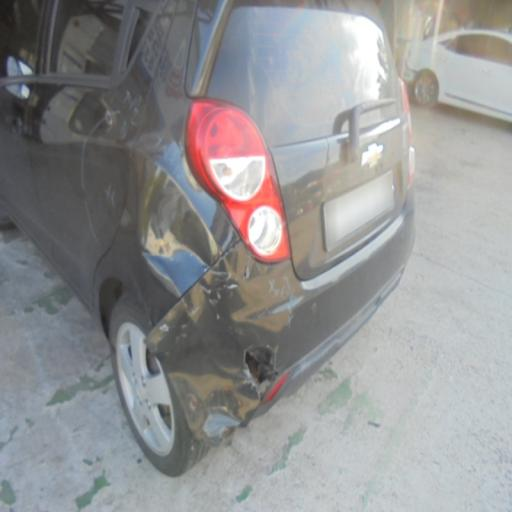broken: (130, 214, 309, 440)
